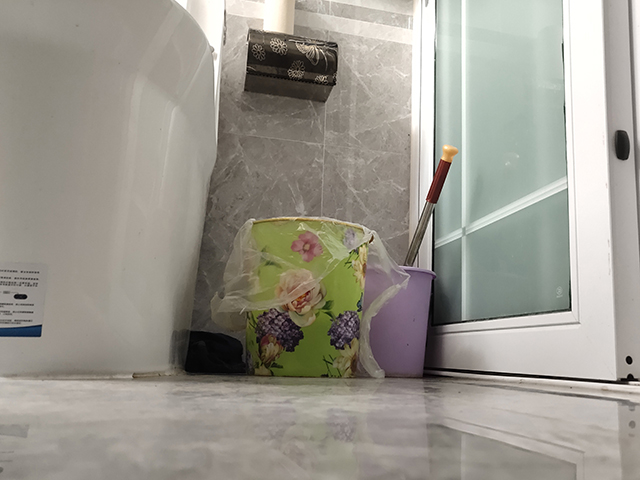closestool: (1, 1, 228, 378)
trashcan: (240, 214, 376, 380)
